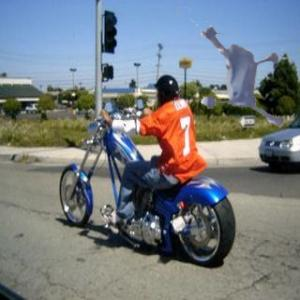drone: (159, 2, 294, 137)
